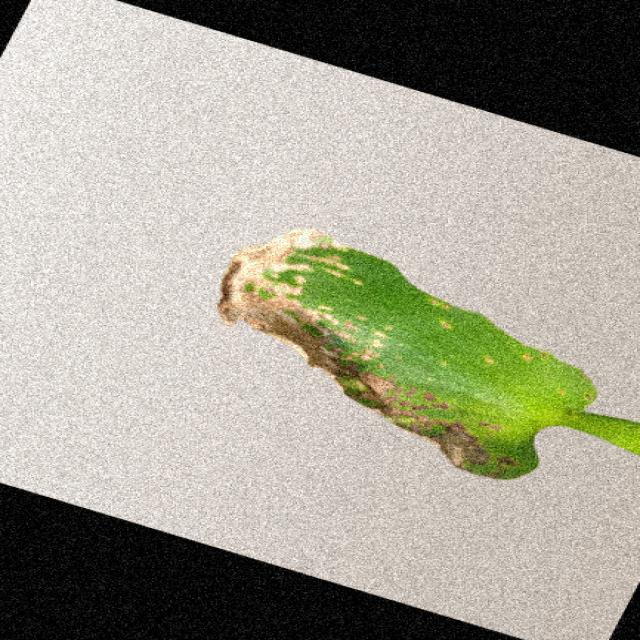daun berpenyakit bercak: (218, 229, 638, 479)
